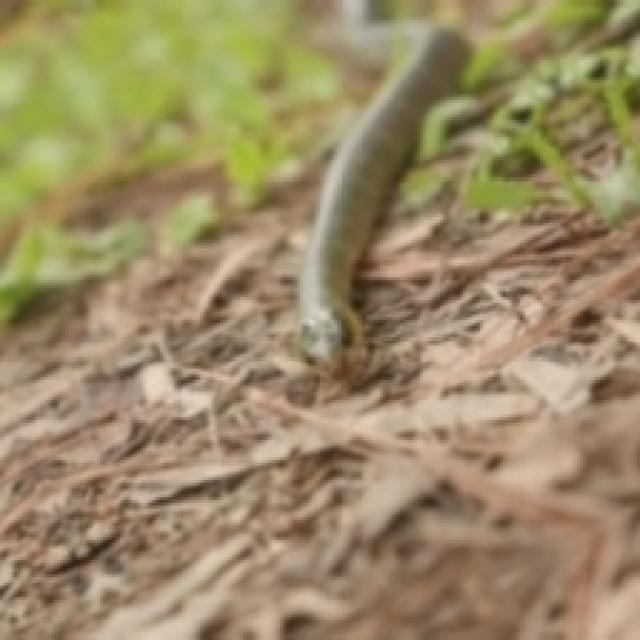gunthers philippine shrub snake: (297, 29, 466, 363)
